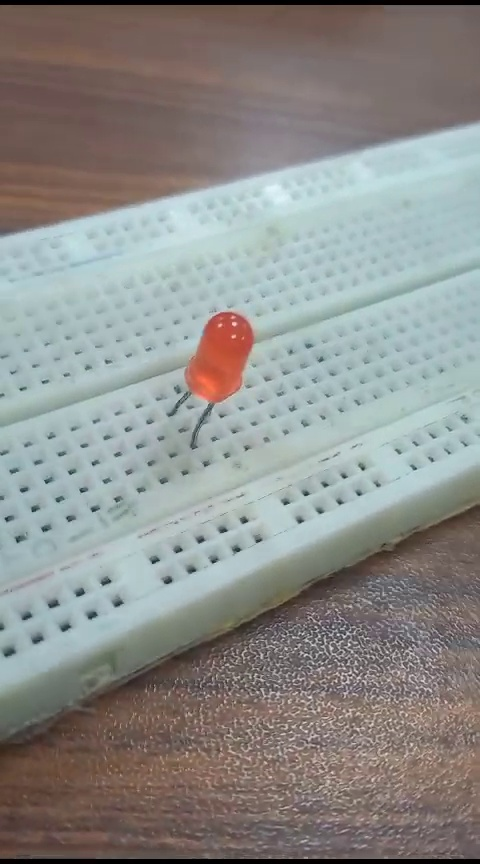LED: (160, 296, 263, 457)
